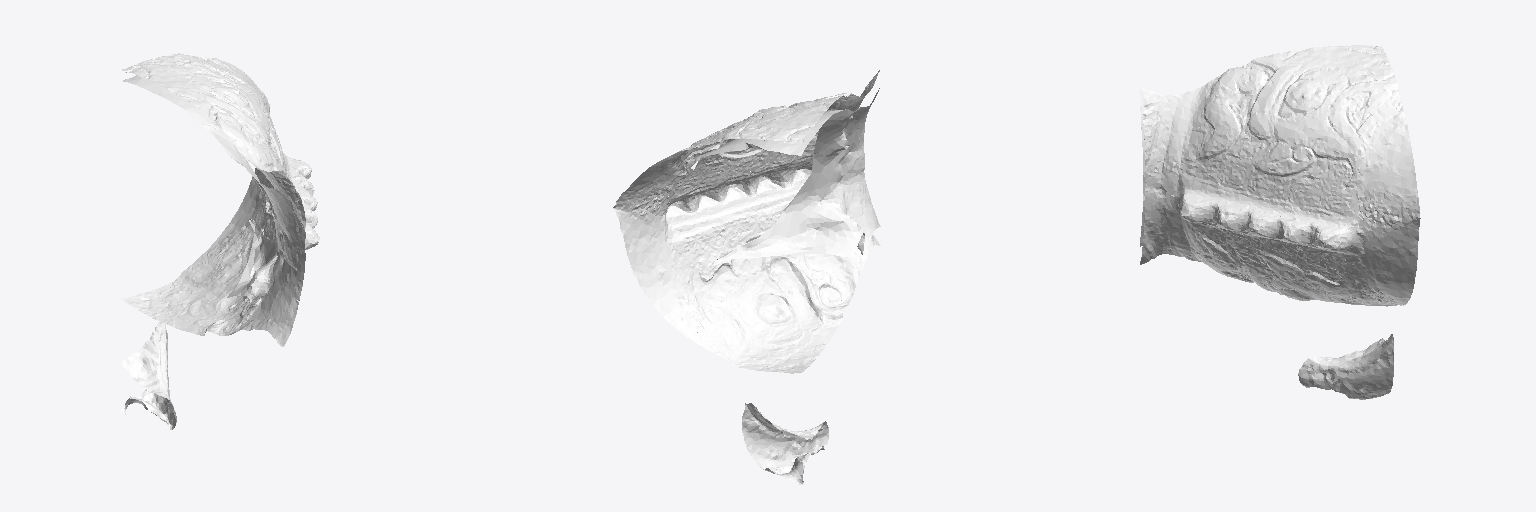
Rendered from tile_1_2.obj.
3 renders of one model, left to right at view 1: azimuth 30°, elevation 25°; view 2: azimuth 150°, elevation 25°; view 3: azimuth 270°, elevation 25°, orthographic.
Visible parts, largest first — view 1: texture_0; view 2: texture_0; view 3: texture_0.
Boxes of the visible parts, box(x1,y1,x2,y2) form: texture_0: box(121, 53, 319, 429); texture_0: box(613, 70, 880, 484); texture_0: box(1140, 45, 1420, 399).
Size of the model in its own units: 0.1064 by 0.2087 by 0.1535.